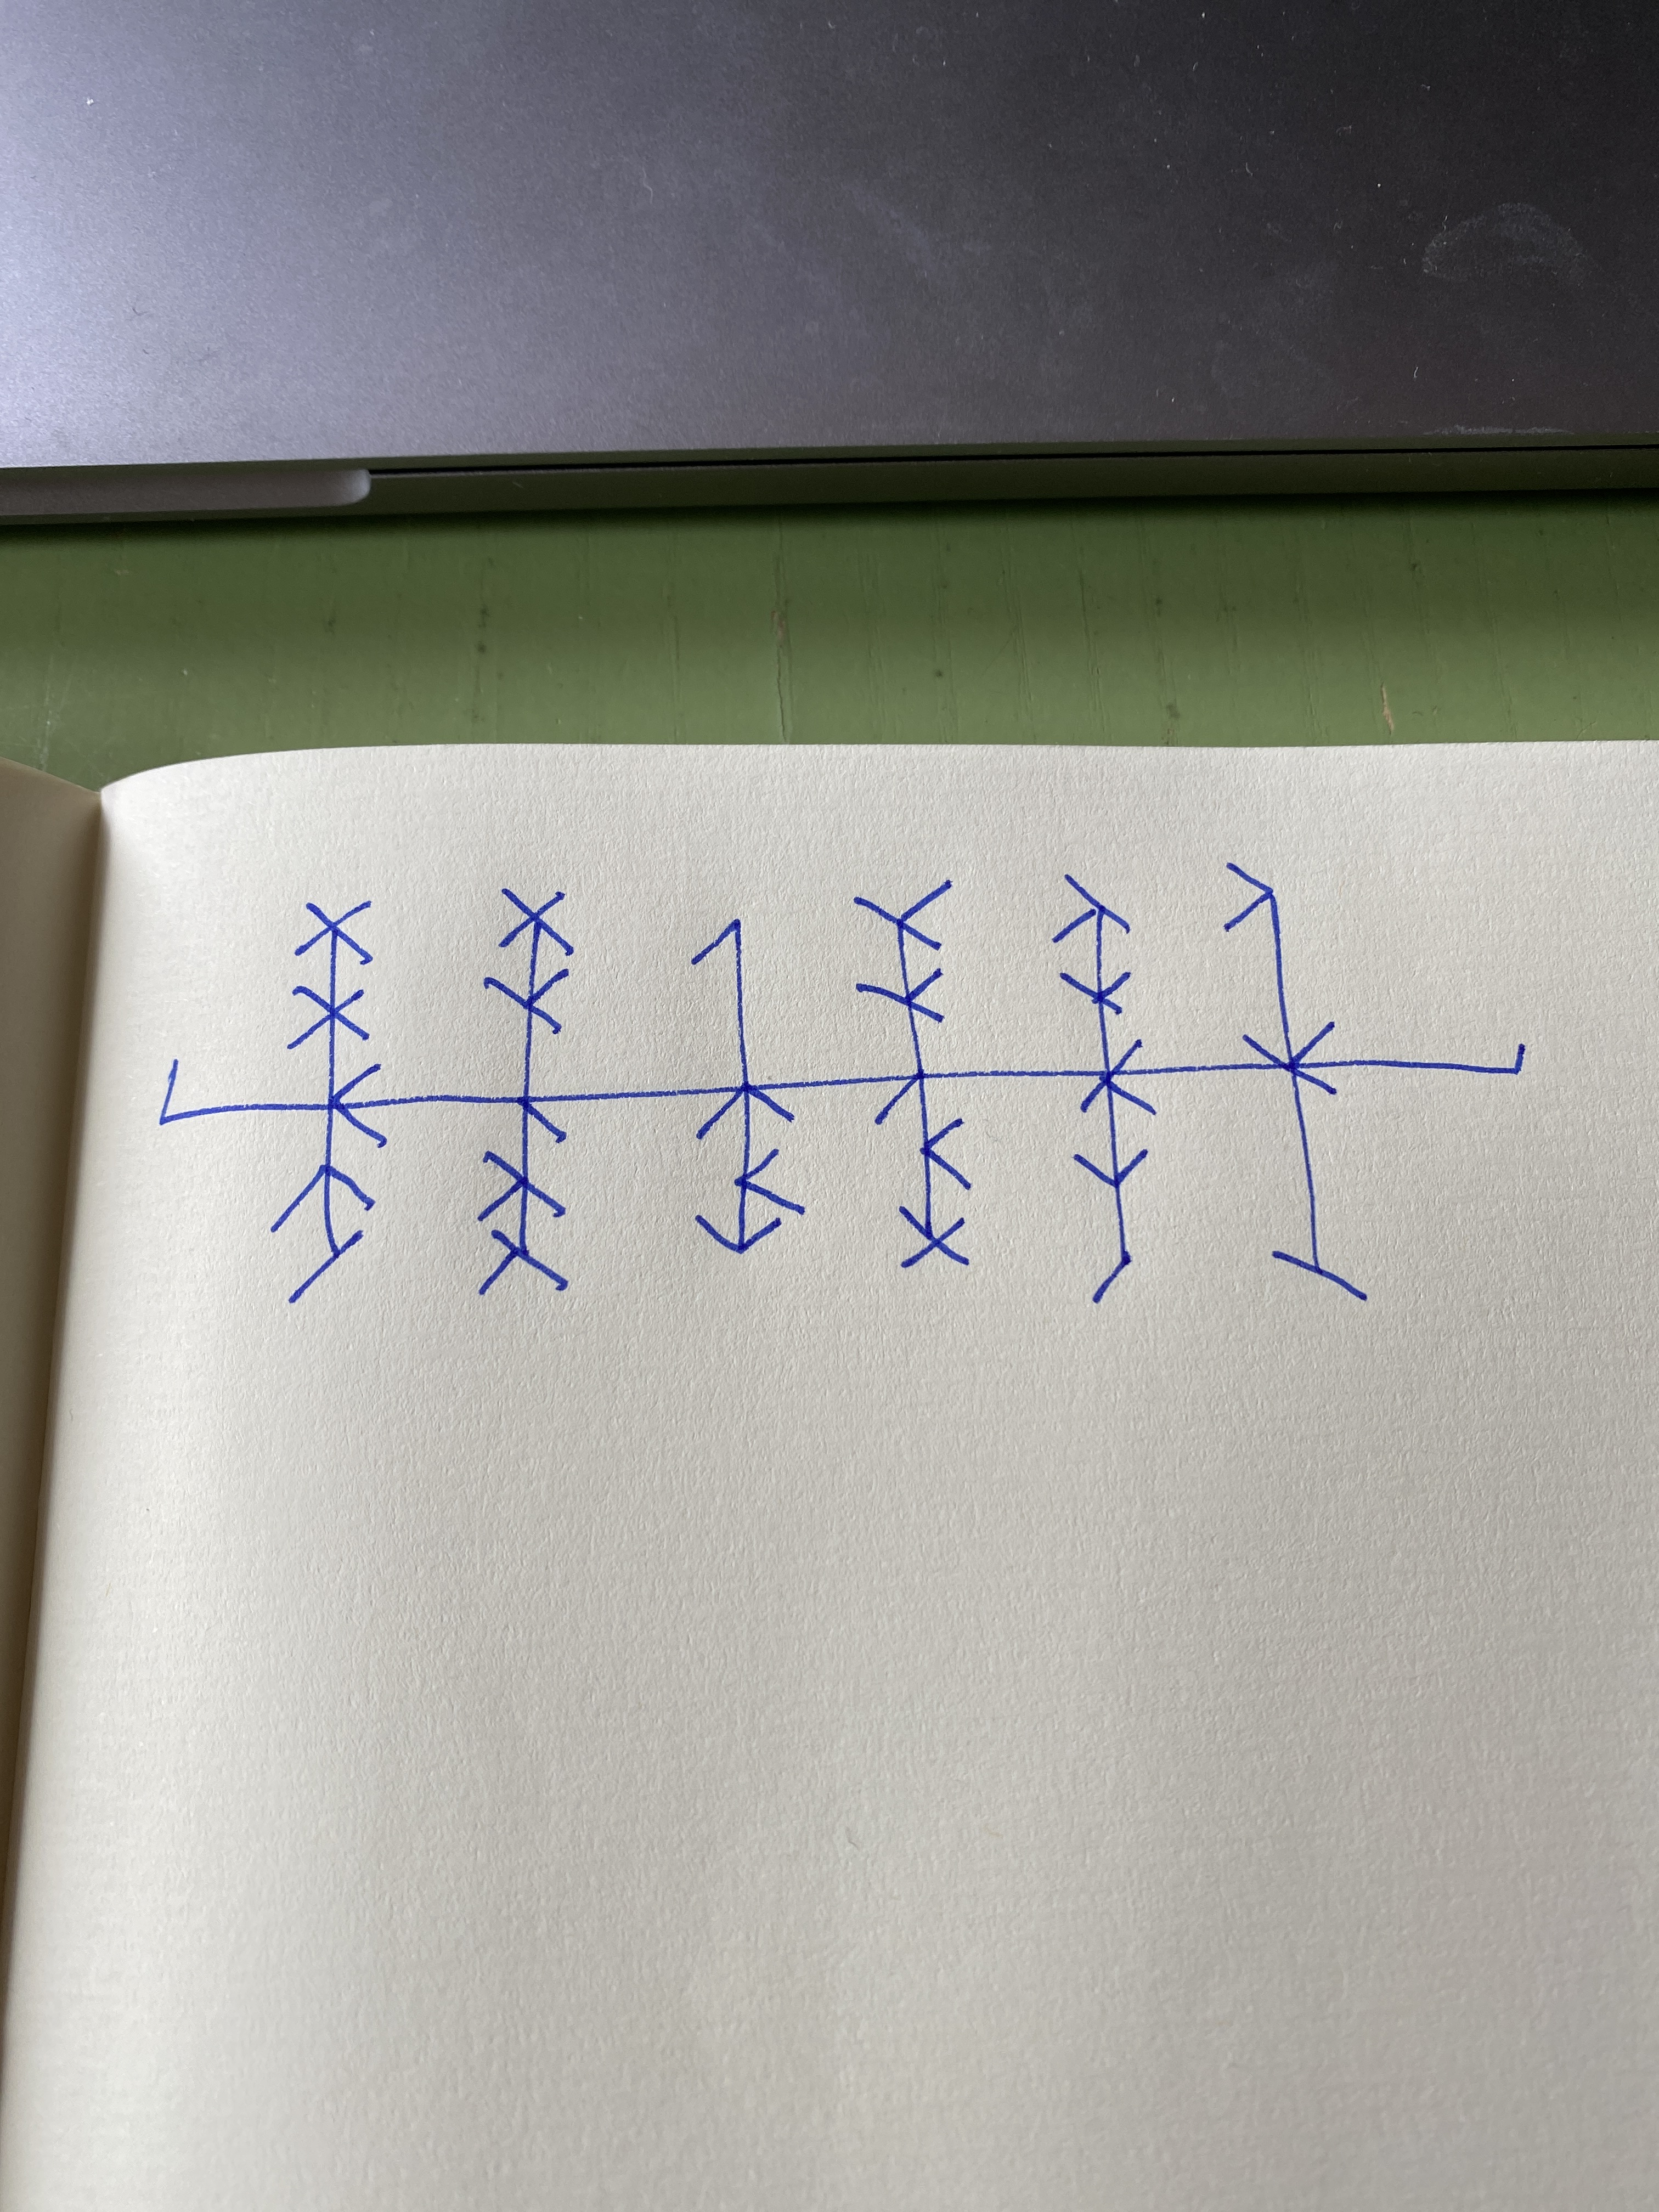Bar: (1225, 866, 1364, 1299), (854, 878, 972, 1270), (272, 902, 385, 1301), (1053, 874, 1155, 1299), (690, 918, 805, 1252), (477, 887, 572, 1294)
Barcode: (157, 864, 1527, 1299)
End: (1312, 1047, 1525, 1076)
Start: (157, 1055, 328, 1125)
